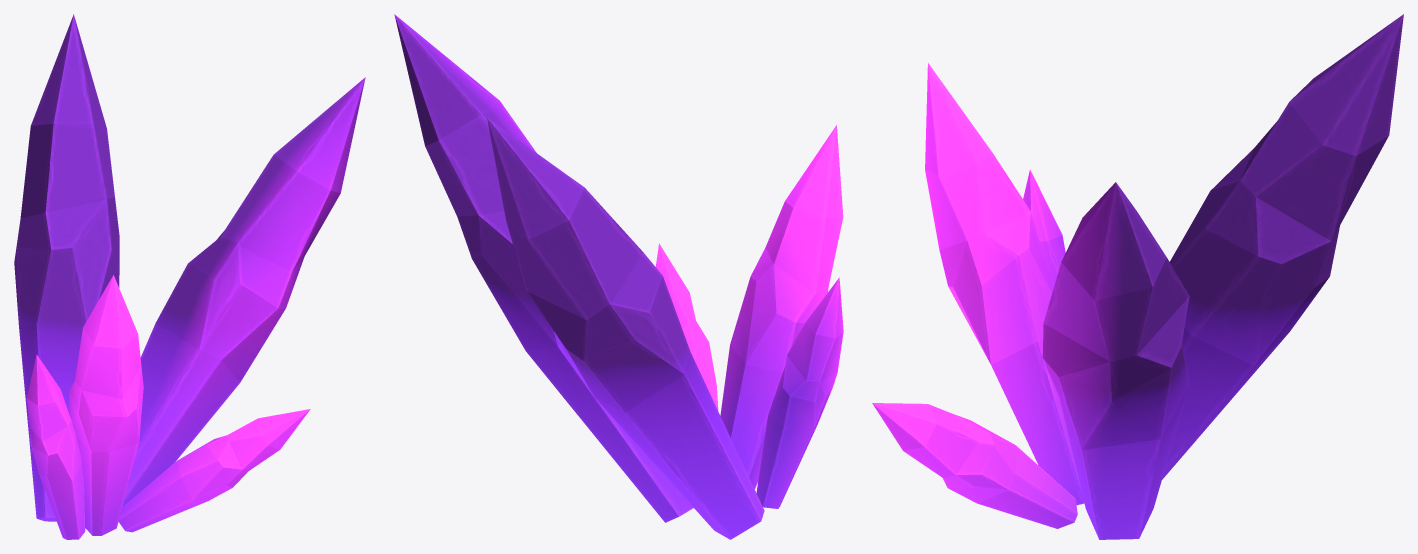
Rendered from SM_Stylized_Crystal_05_CrystalE.fbx.
3 renders of one model, left to right at view 1: azimuth 30°, elevation 25°; view 2: azimuth 150°, elevation 25°; view 3: azimuth 270°, elevation 25°, orthographic. The views are drawn at different scales.
Parts seen in each view (by area): view 1: SM_Stylized_Crystal_05_CrystalE_LOD0; view 2: SM_Stylized_Crystal_05_CrystalE_LOD0; view 3: SM_Stylized_Crystal_05_CrystalE_LOD0.
Part boxes in pixels (bbox=[...]): SM_Stylized_Crystal_05_CrystalE_LOD0: bbox=[14, 14, 365, 539]; SM_Stylized_Crystal_05_CrystalE_LOD0: bbox=[394, 14, 843, 539]; SM_Stylized_Crystal_05_CrystalE_LOD0: bbox=[872, 14, 1403, 539].
Bounding box in the file's own units: 18.05 × 16.7 × 19.6.
